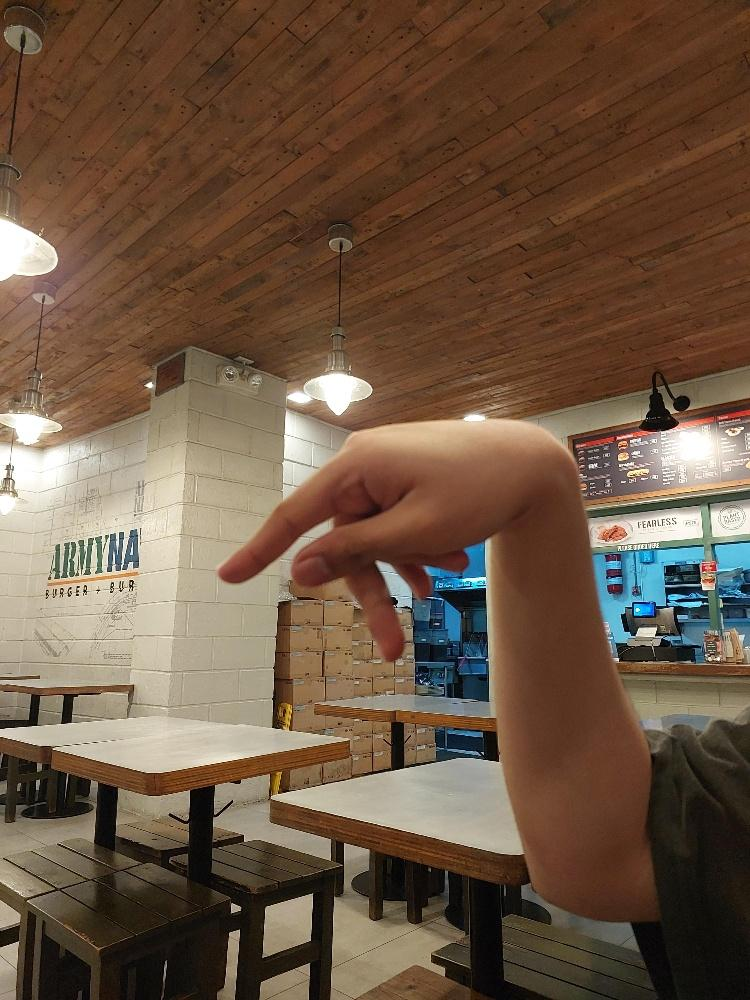p: (213, 415, 527, 665)
